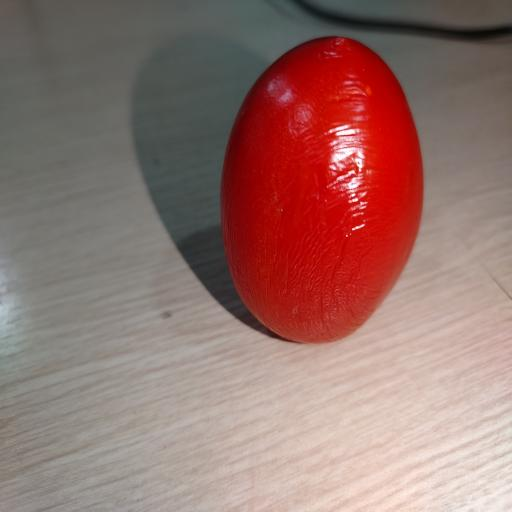spoiled: (221, 37, 423, 343)
